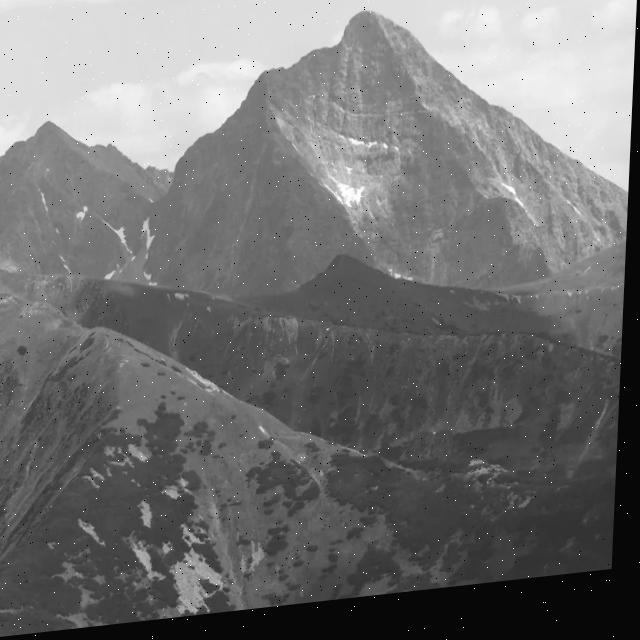Krivan: (282, 0, 451, 81)
